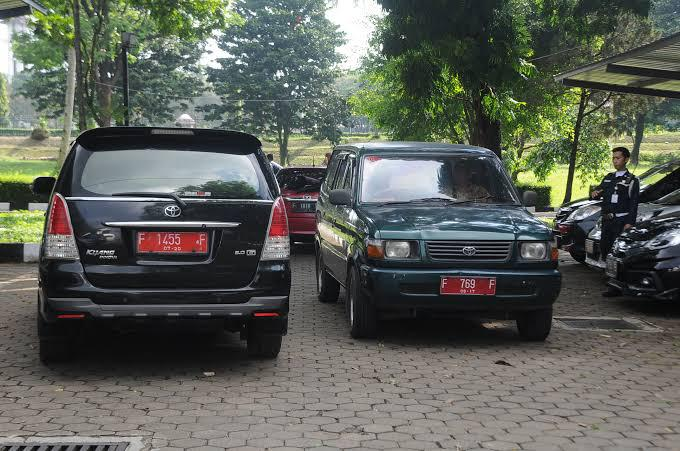plate: (136, 227, 210, 256), (439, 273, 497, 297)
